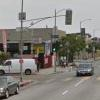Traffic light: (55, 6, 80, 31)
